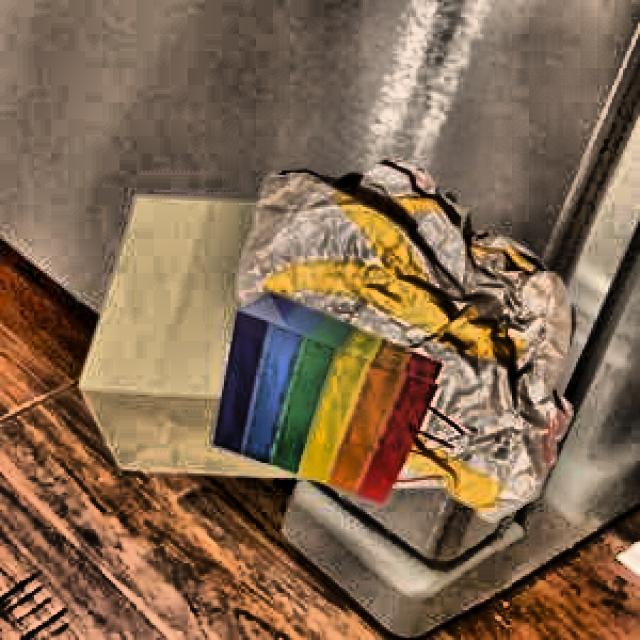Paper-bag: (243, 166, 583, 529), (72, 182, 428, 491), (203, 290, 441, 516)
